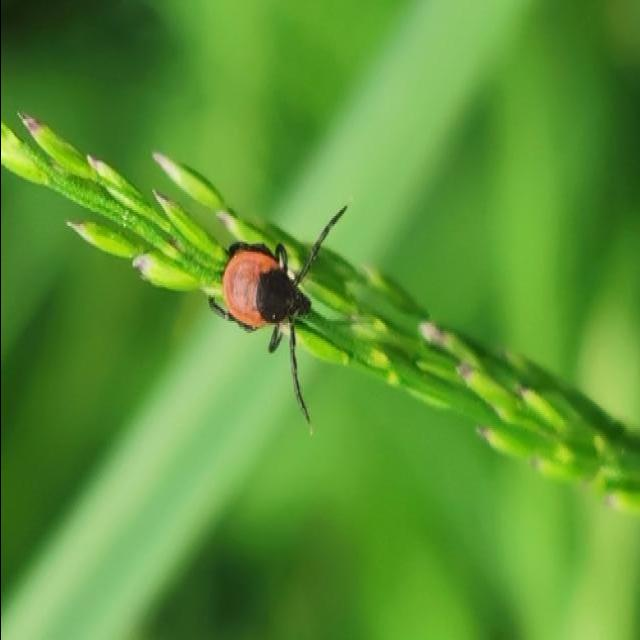Ixodes Ricinus-F: (207, 208, 346, 434)
